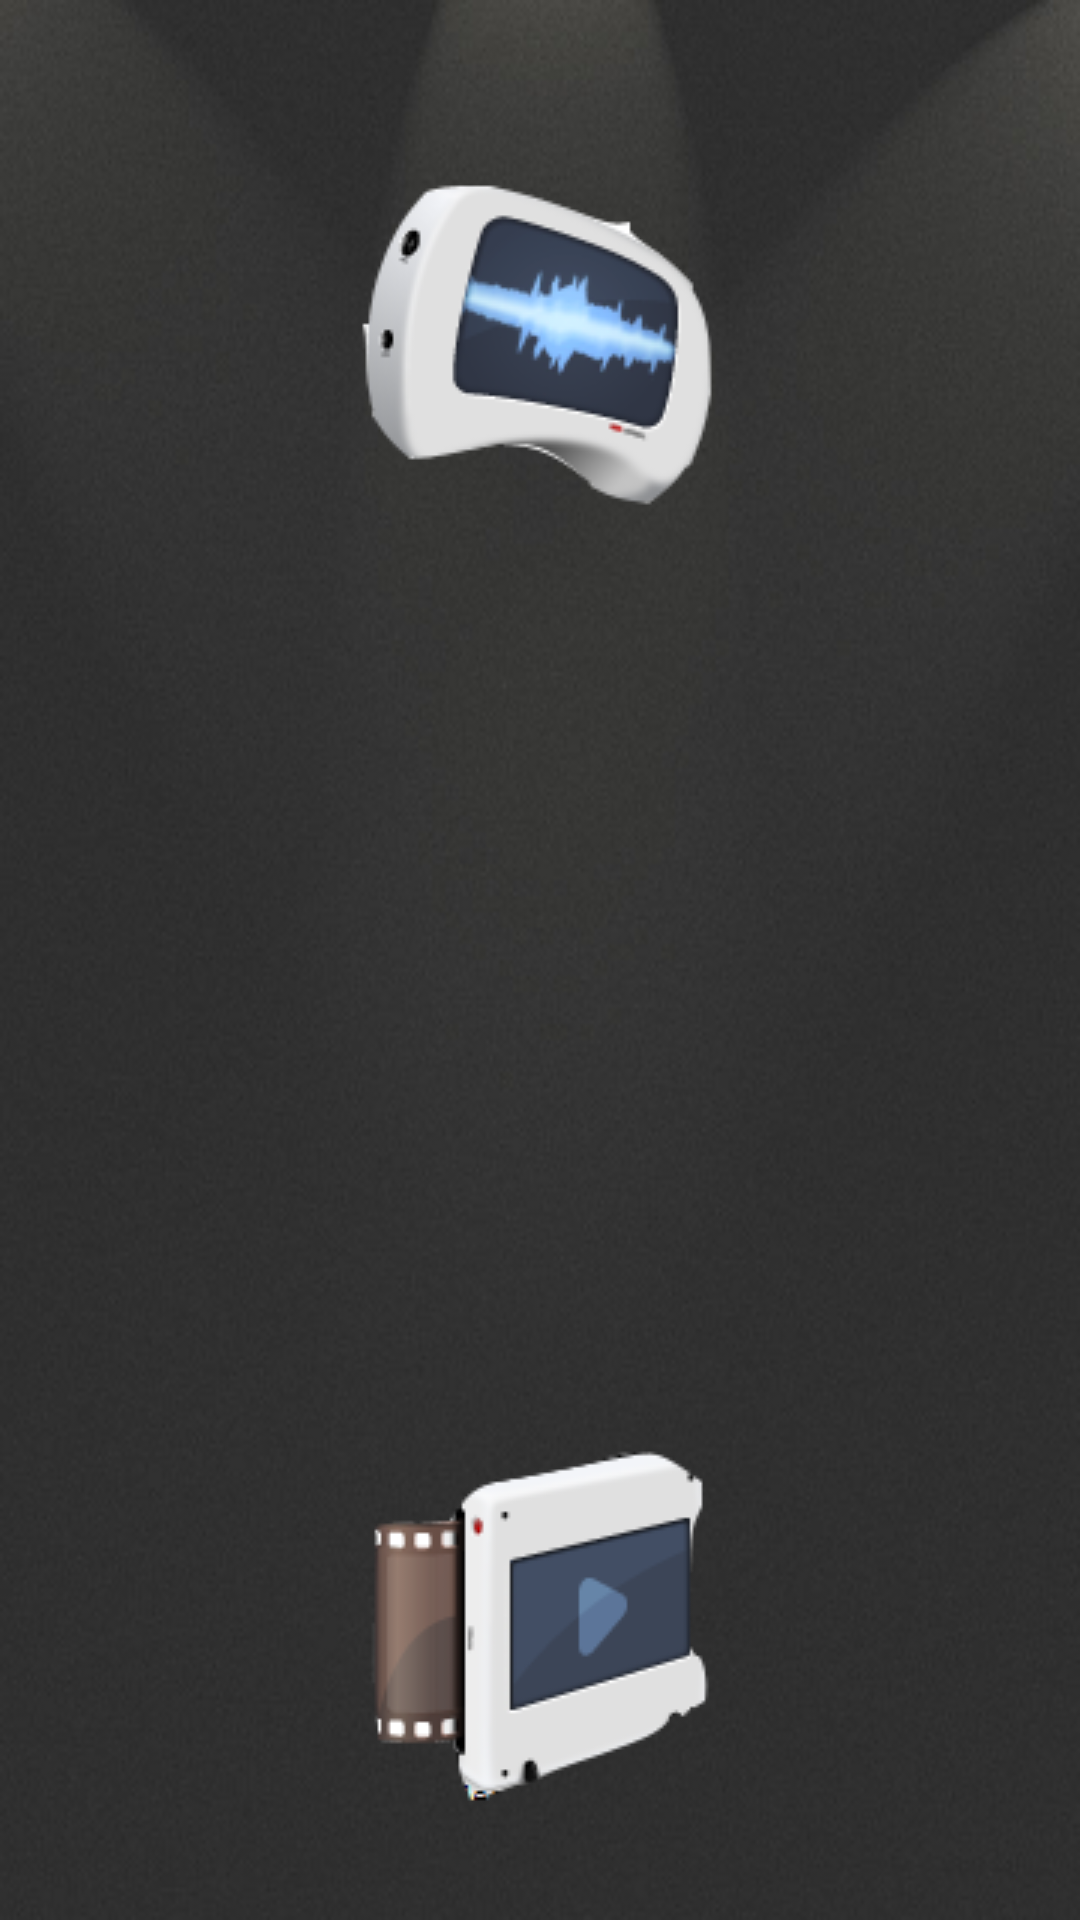

Icons on this 1080 × 1920 Android screen, each with its box as (x1, y1, x2, y2):
audiomeeting: (362, 185, 712, 505)
videomeeting: (374, 1451, 708, 1801)
